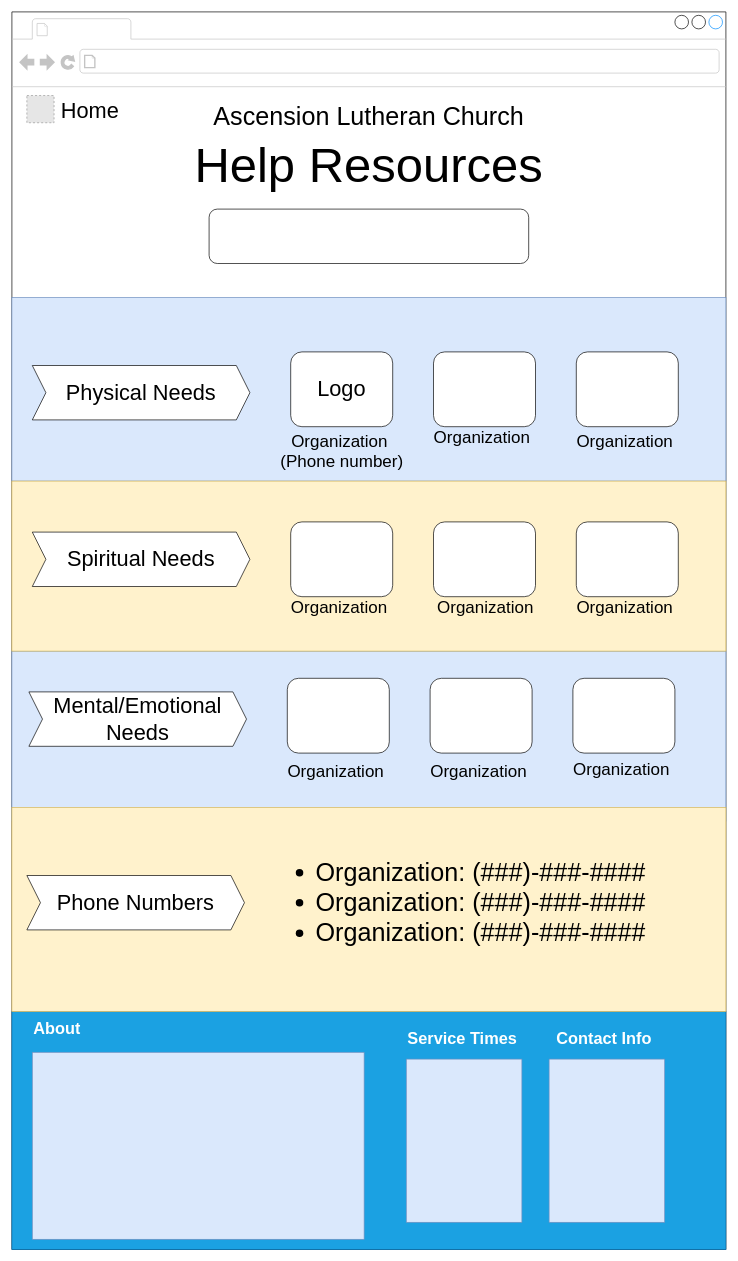
Image size: 738x1261. Some labels were removed from this diagram. Grey dashed boxes stand in for pictures. Each missing label, with the box of its shape:
Bible Passage/Words of Encouragement: (208, 208, 529, 264)
https://www.default.com: (100, 52, 270, 70)
Page 1: (52, 19, 128, 38)
